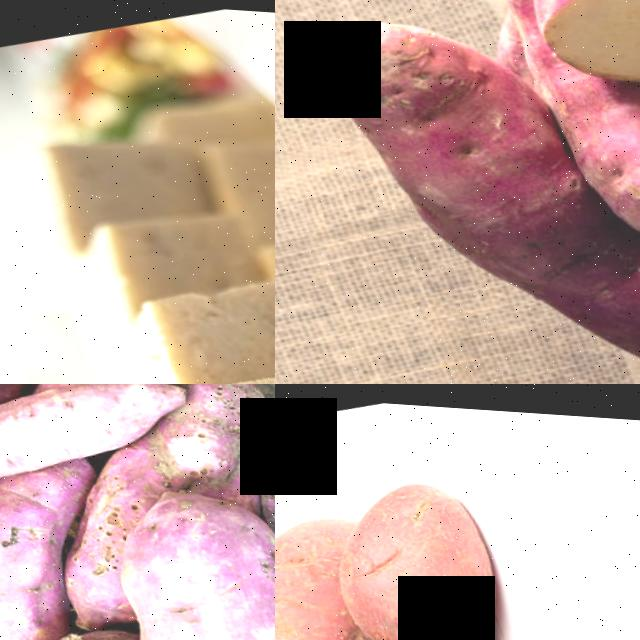sweet potato: (296, 0, 630, 384), (297, 457, 519, 640), (73, 467, 275, 640), (538, 40, 640, 345), (0, 384, 196, 475), (0, 496, 71, 640)
tofu: (87, 260, 275, 384)
